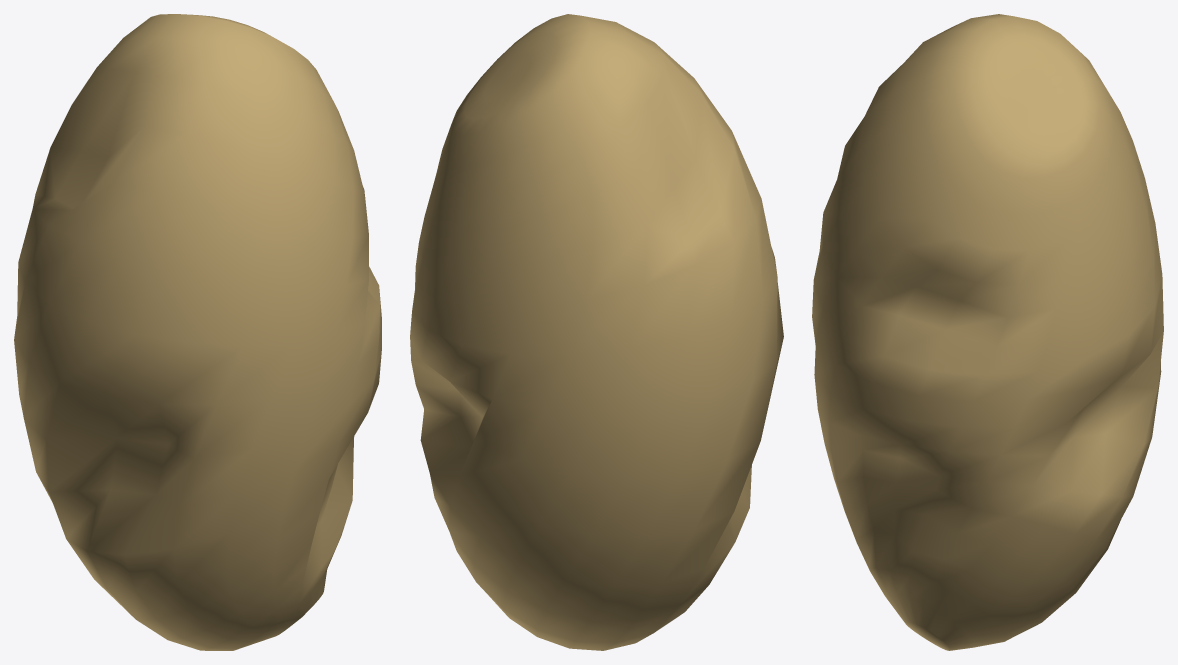
Rendered from Potato_Crop_Model.fbx.
3 renders of one model, left to right at view 1: azimuth 30°, elevation 25°; view 2: azimuth 150°, elevation 25°; view 3: azimuth 270°, elevation 25°, orthographic. The views are drawn at different scales.
Parts seen in each view (by area): view 1: Potato_model; view 2: Potato_model; view 3: Potato_model.
Part boxes in pixels (box(x1,y1,x2,y2)): Potato_model: box(14, 14, 381, 650); Potato_model: box(410, 14, 783, 650); Potato_model: box(812, 14, 1163, 650).
Size of the model in its own units: 0.169 by 0.3102 by 0.1613.
